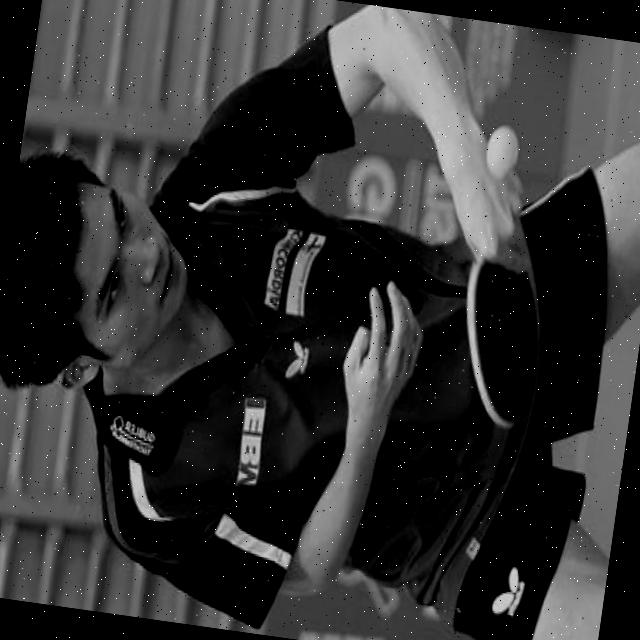ping-pong-ball: (482, 122, 525, 180)
